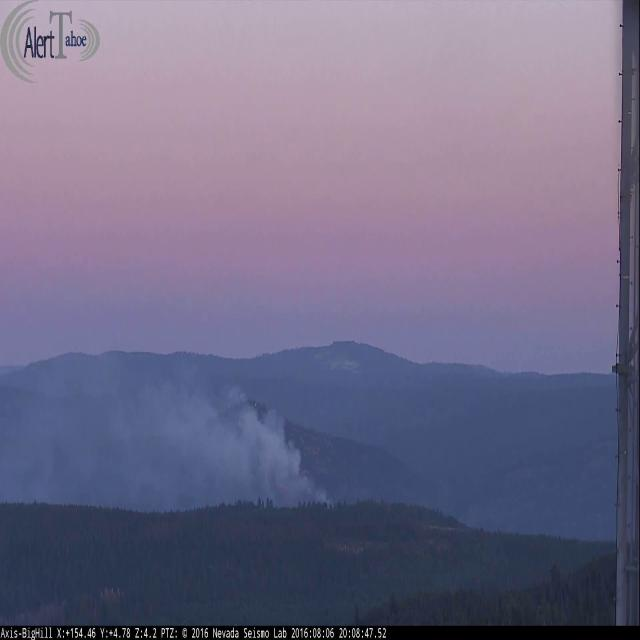smoke: (8, 309, 346, 522)
